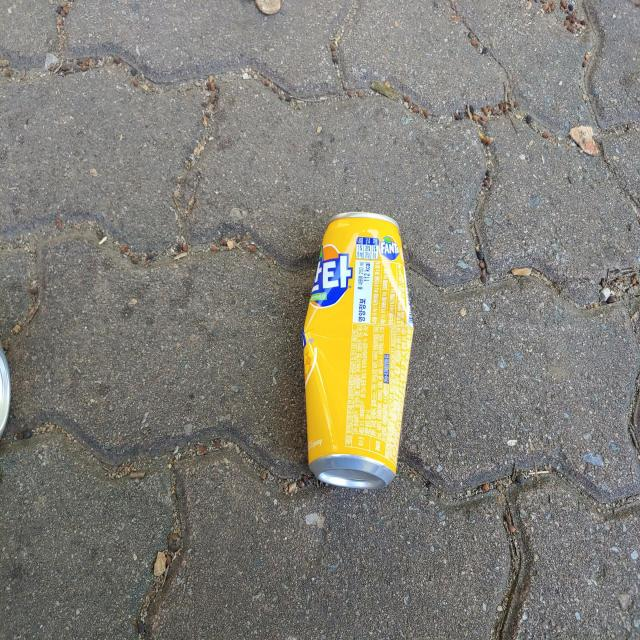can: (303, 212, 414, 489)
